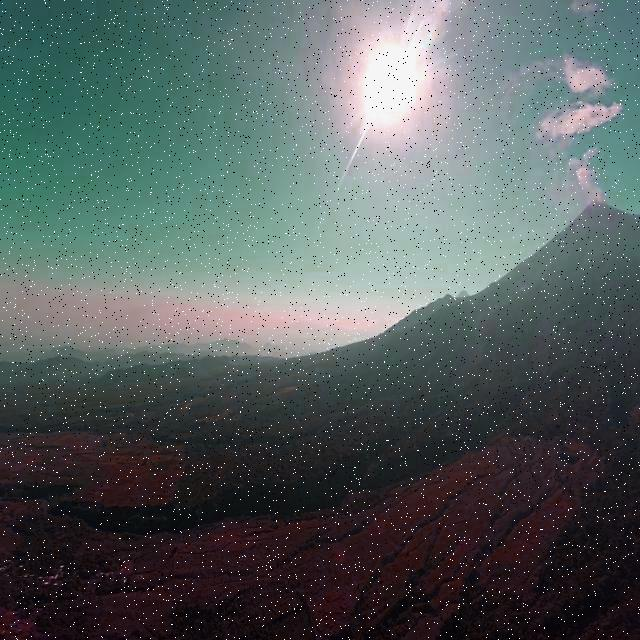Plume: (532, 102, 624, 144), (554, 53, 616, 101), (565, 140, 607, 206)
Summit: (579, 195, 617, 218)
